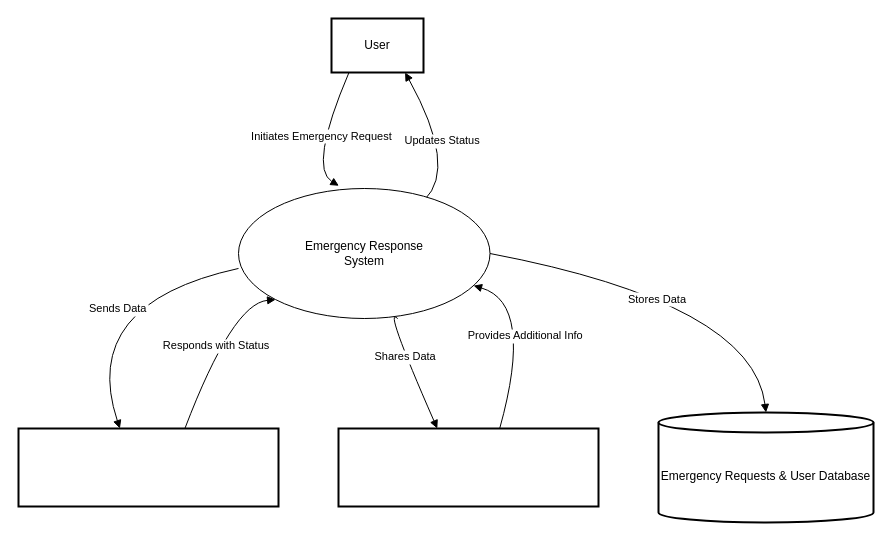
The diagram is 891 pixels wide and 540 high, and some of its shapes have lost their labels. The shapes that lost their labels are listed below. From the top down, each one's centre as x and y in pixels, then its label:
At (148,467): "Emergency Services - Police, Fire, Medical, Legal".
At (468,467): "Government Databases & API Services".
